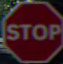Stop: (3, 3, 59, 56)
